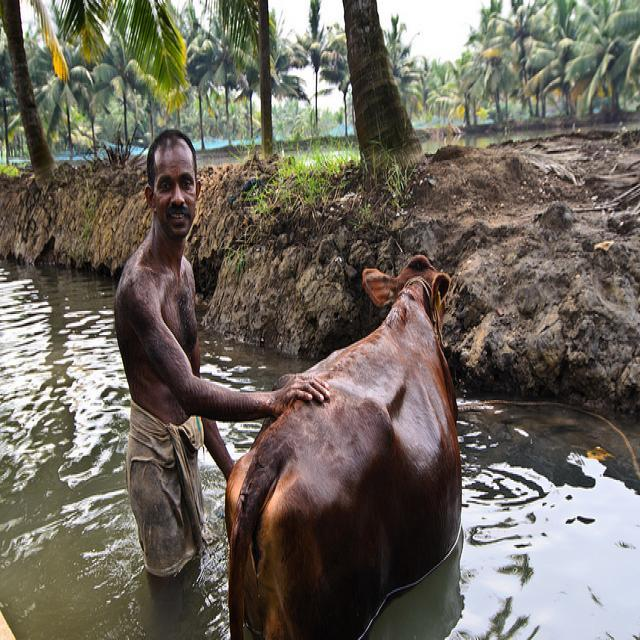cow: (222, 252, 464, 630)
